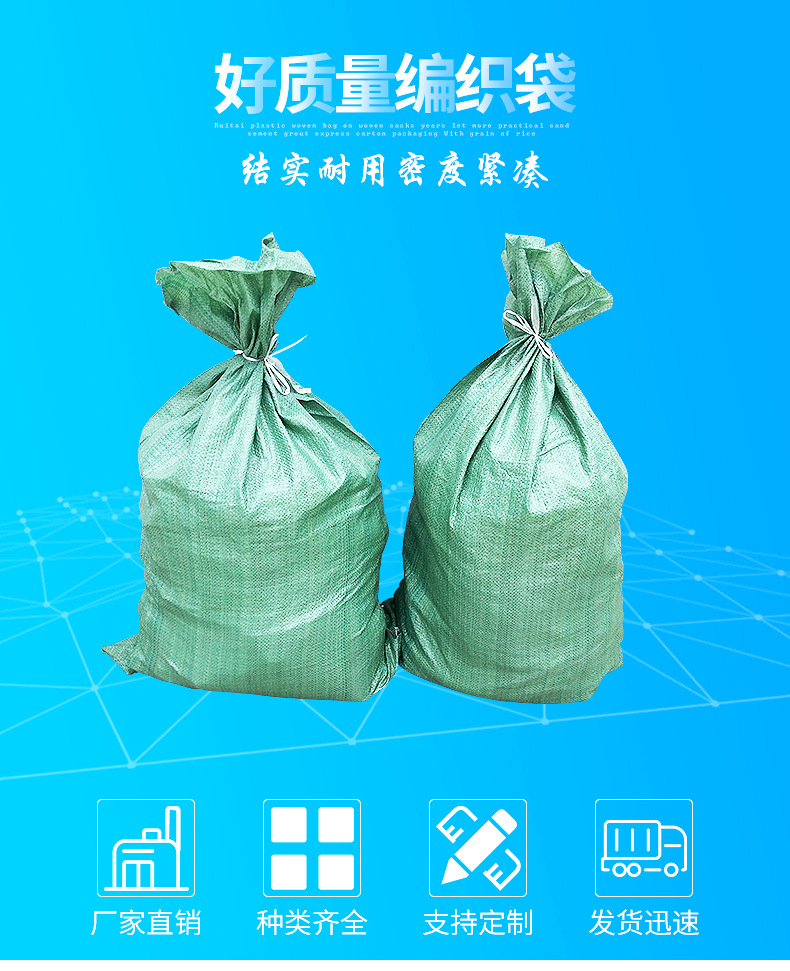塑料袋: (107, 235, 398, 701), (393, 235, 627, 704)
